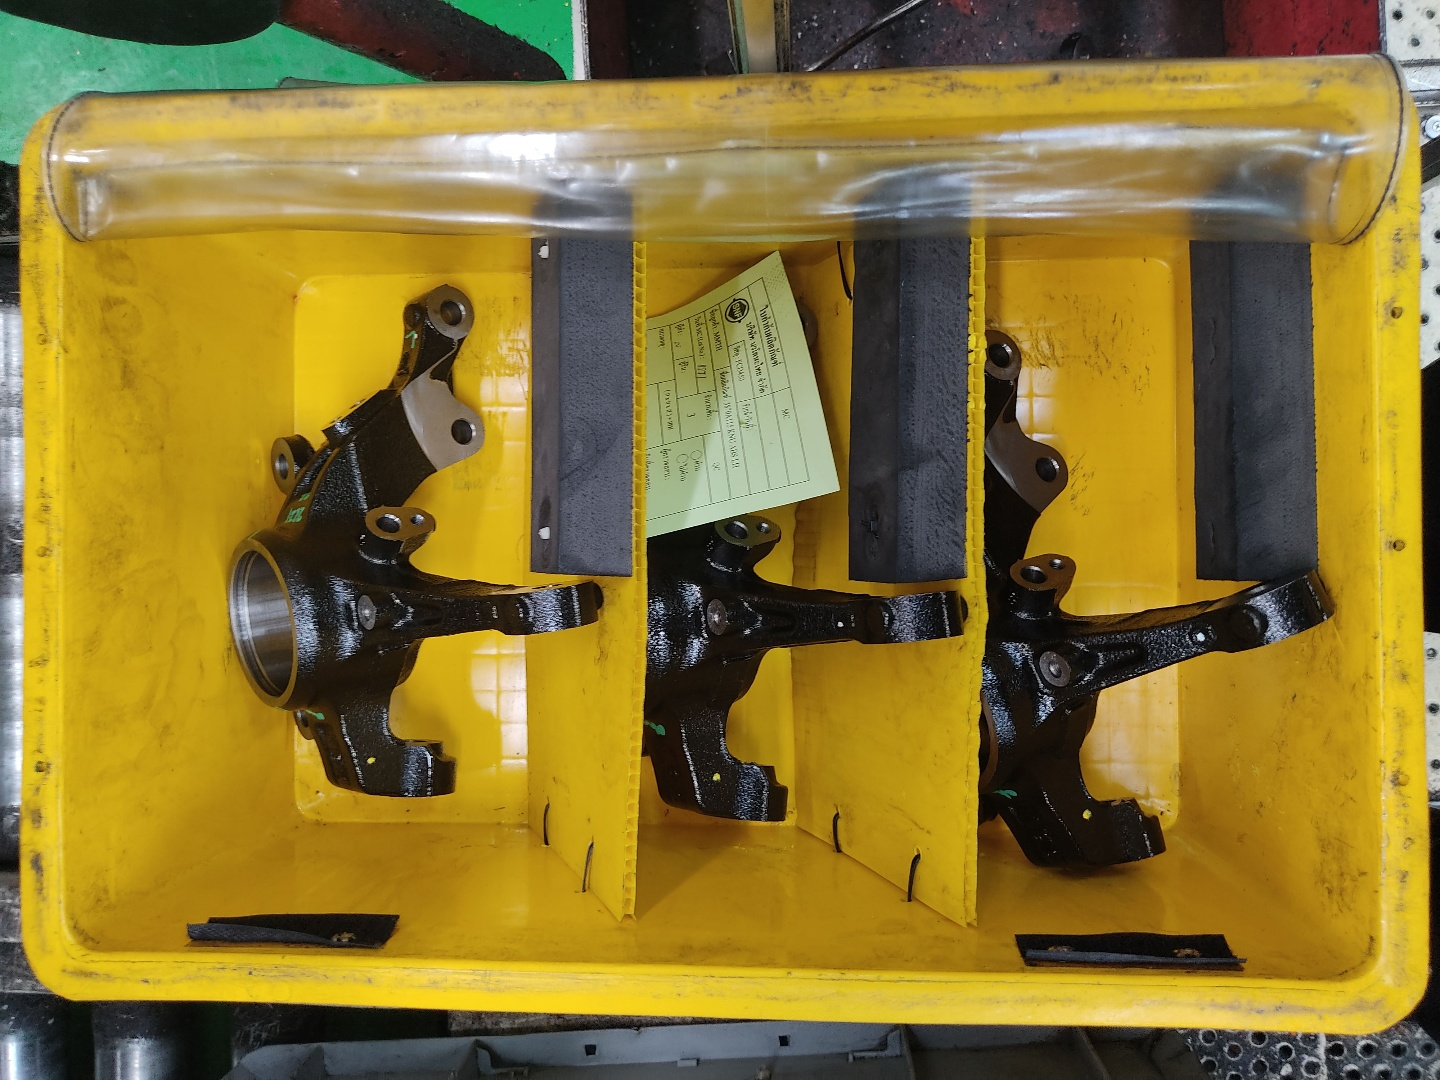abs-lh: (967, 302, 1349, 881), (221, 271, 617, 810), (629, 288, 971, 834)
